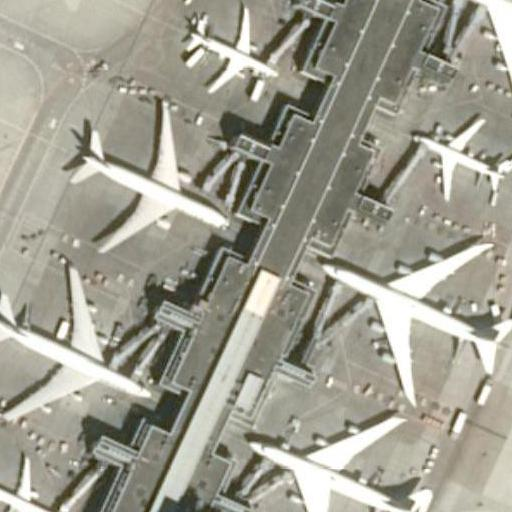Aircraft: (300, 230, 512, 404), (0, 269, 159, 447), (57, 100, 227, 264), (231, 399, 431, 512), (165, 1, 295, 102), (409, 113, 512, 209), (428, 0, 512, 103), (0, 449, 79, 512)
